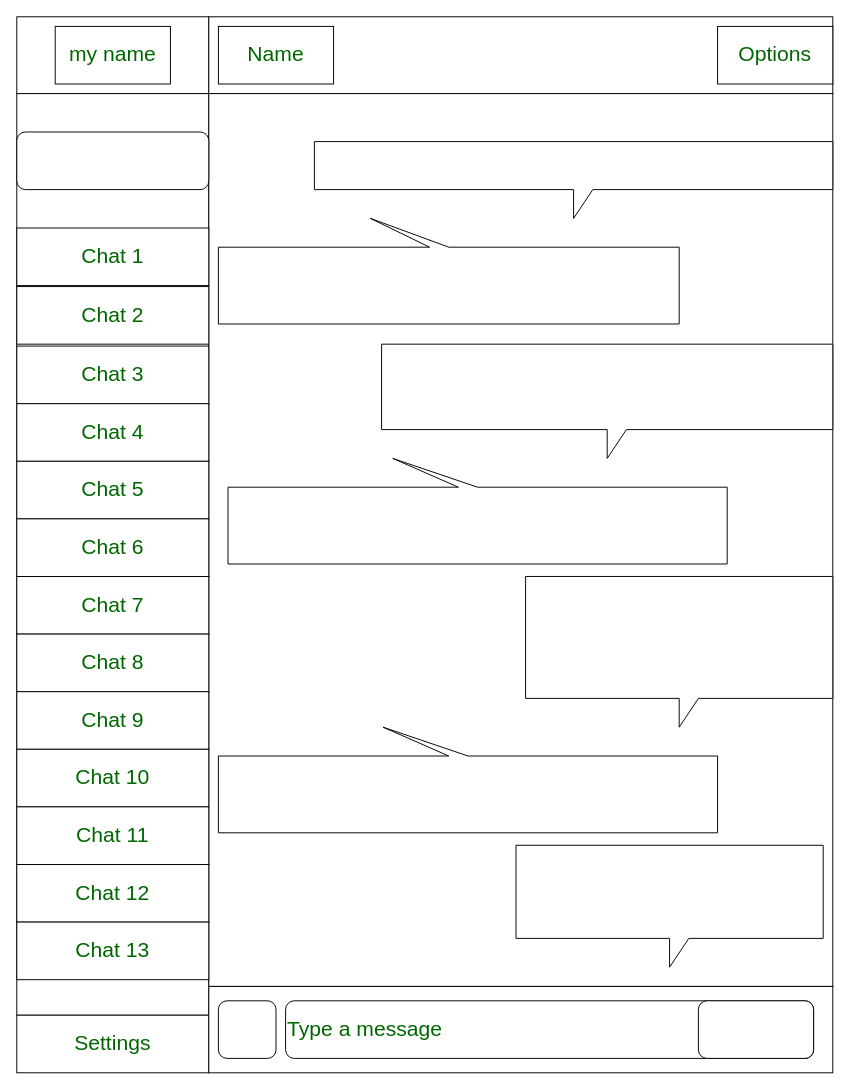
This 850x1090 diagram has some shape labels left out. The shapes that lost their labels are listed below. From the top down, each one's centre as x and y in pixels, then its label:
the point at 112,160: Search
the point at 246,1029: Media
the point at 755,1029: Send
